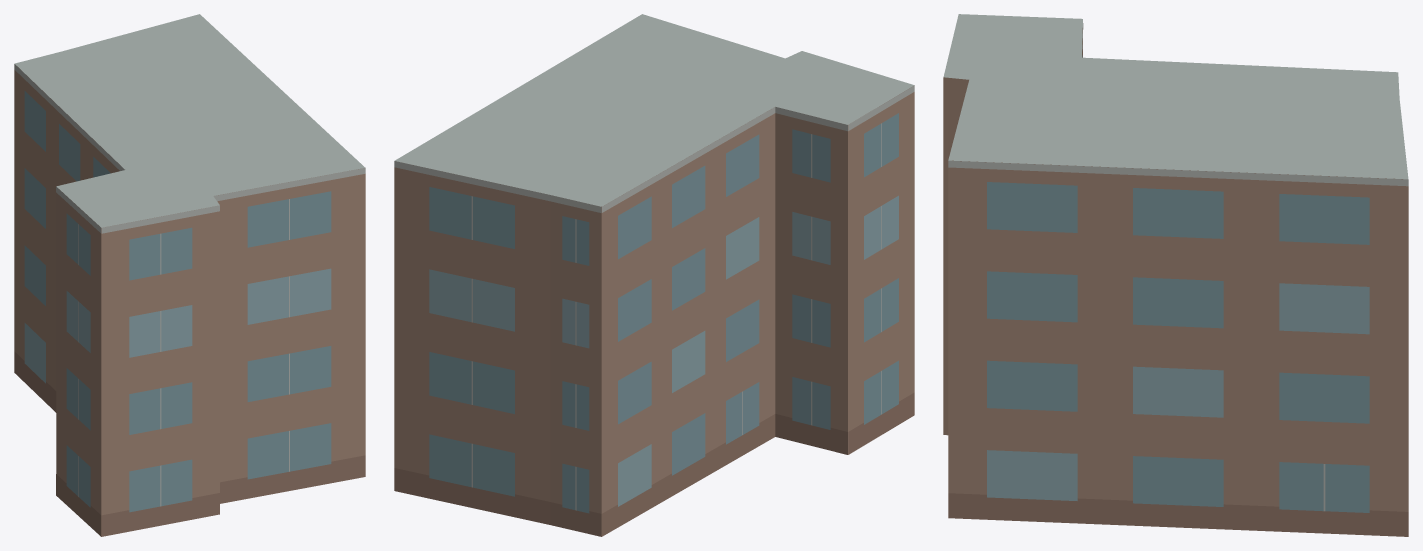
File: survey-upis-32676835.glb
3 views of the same model, side by side, from view 1: azimuth 30°, elevation 25°; view 2: azimuth 150°, elevation 25°; view 3: azimuth 270°, elevation 25° (orthographic). The views are drawn at different scales.
Parts seen in each view (by area): view 1: survey-upis-32676835.tmp; view 2: survey-upis-32676835.tmp; view 3: survey-upis-32676835.tmp.
Part boxes in pixels (left/top/right/bottom): survey-upis-32676835.tmp: left=14, top=14, right=365, bottom=536; survey-upis-32676835.tmp: left=394, top=14, right=914, bottom=536; survey-upis-32676835.tmp: left=943, top=14, right=1408, bottom=536.
Bounding box in the file's own units: 12.49 × 12.59 × 14.85.
